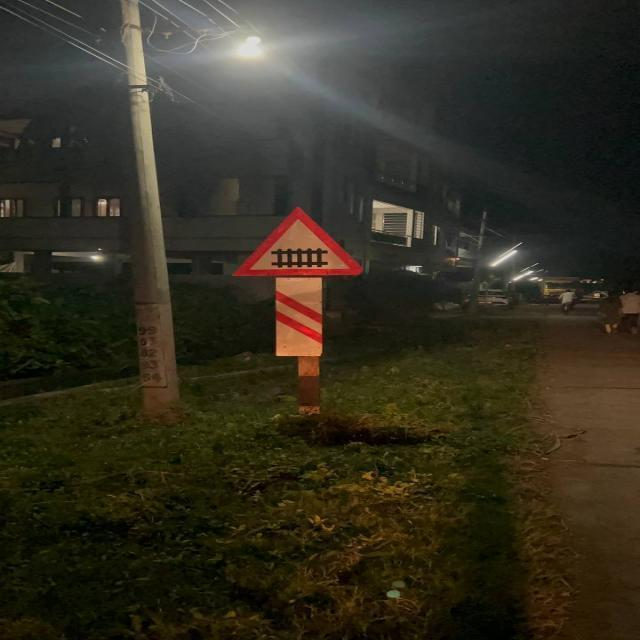guarded level crossing: (231, 207, 367, 280)
